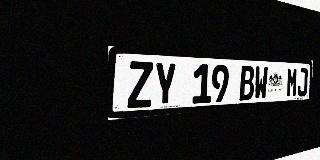1: (192, 64, 212, 104)
9: (211, 64, 229, 103)
B: (239, 65, 255, 101)
J: (297, 68, 308, 97)
M: (286, 67, 298, 97)
W: (254, 66, 268, 100)
Y: (153, 62, 177, 107)
Z: (127, 61, 153, 108)
